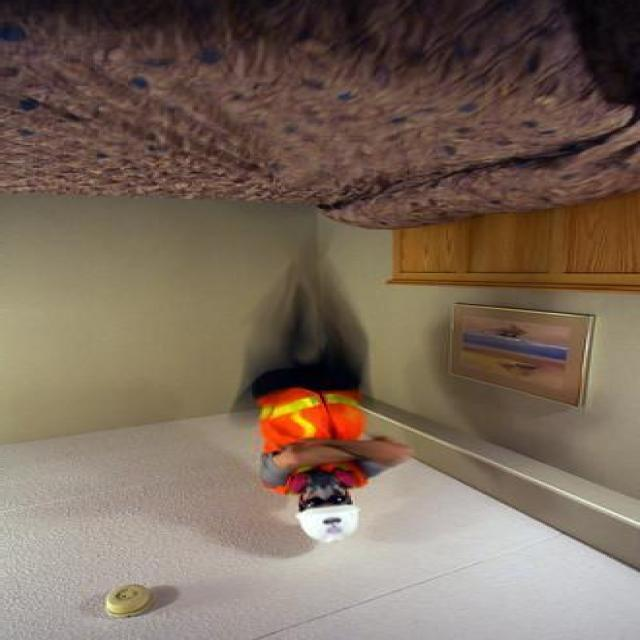helmet: (294, 499, 374, 545)
jacket: (243, 392, 393, 492)
